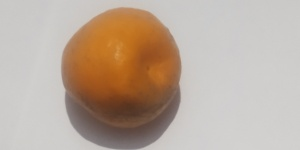BAD: (60, 6, 183, 131)
